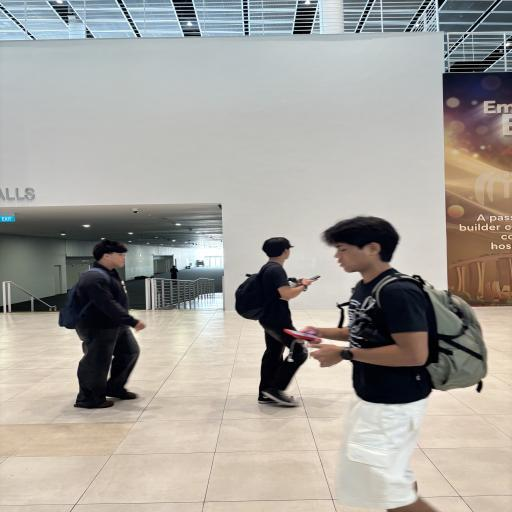person_left: (316, 210, 500, 510)
person_right: (60, 230, 156, 416), (228, 232, 320, 417)
